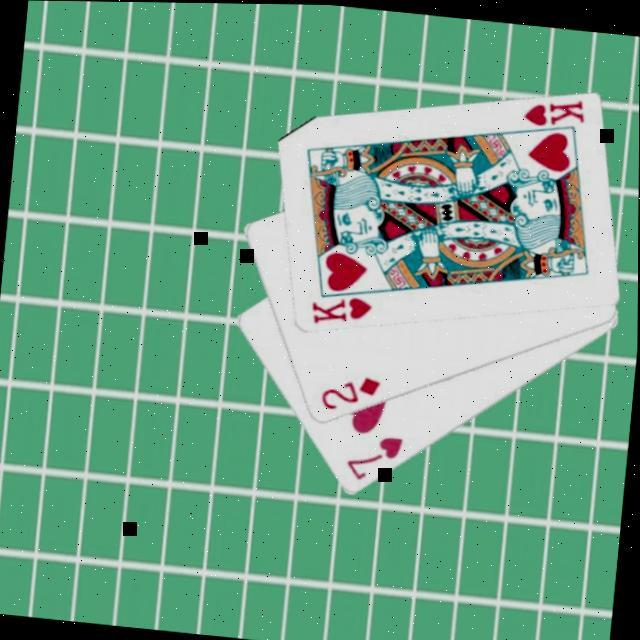2D: (314, 369, 382, 418)
7H: (339, 429, 404, 489)
KH: (515, 92, 586, 135), (304, 290, 373, 333)
